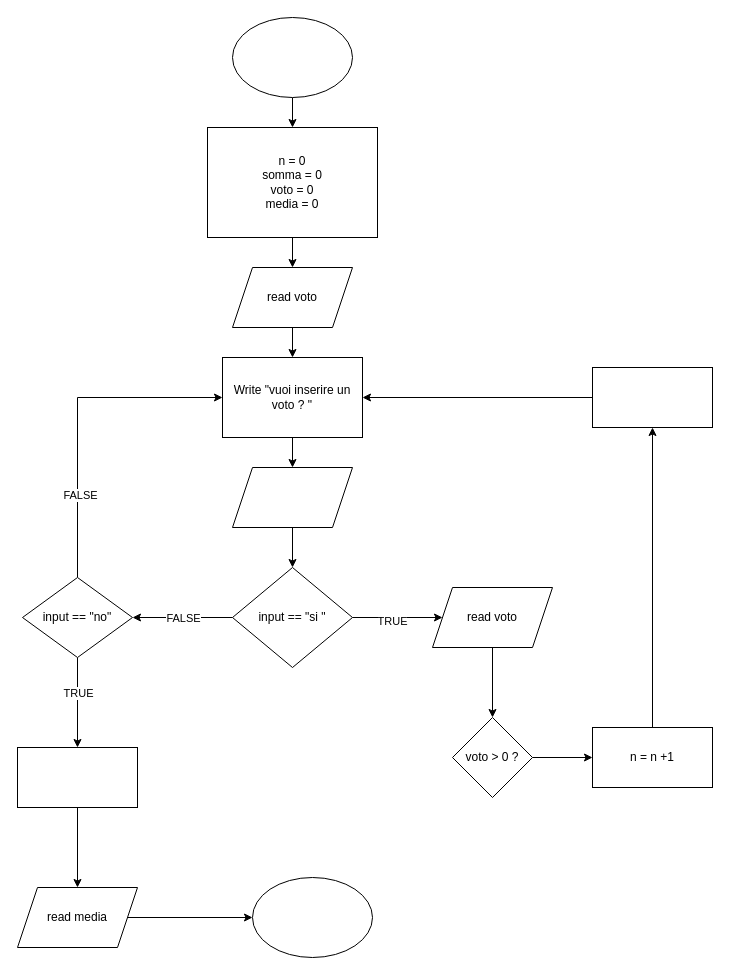
The diagram is 730 pixels wide and 975 high, and some of its shapes have lost their labels. The shapes that lost their labels are listed below. From the top down, each one's box as (x1, y1, x2, y2) in pixels, then its label:
(232, 16, 352, 98): INIZIO
(592, 366, 712, 428): somma = somma + voto
(232, 466, 352, 528): read input
(16, 746, 138, 808): media = somma/n
(252, 876, 372, 958): FINE
